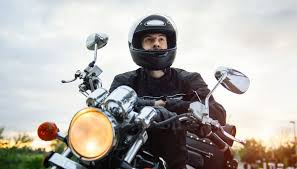helmet: (119, 8, 188, 75)
